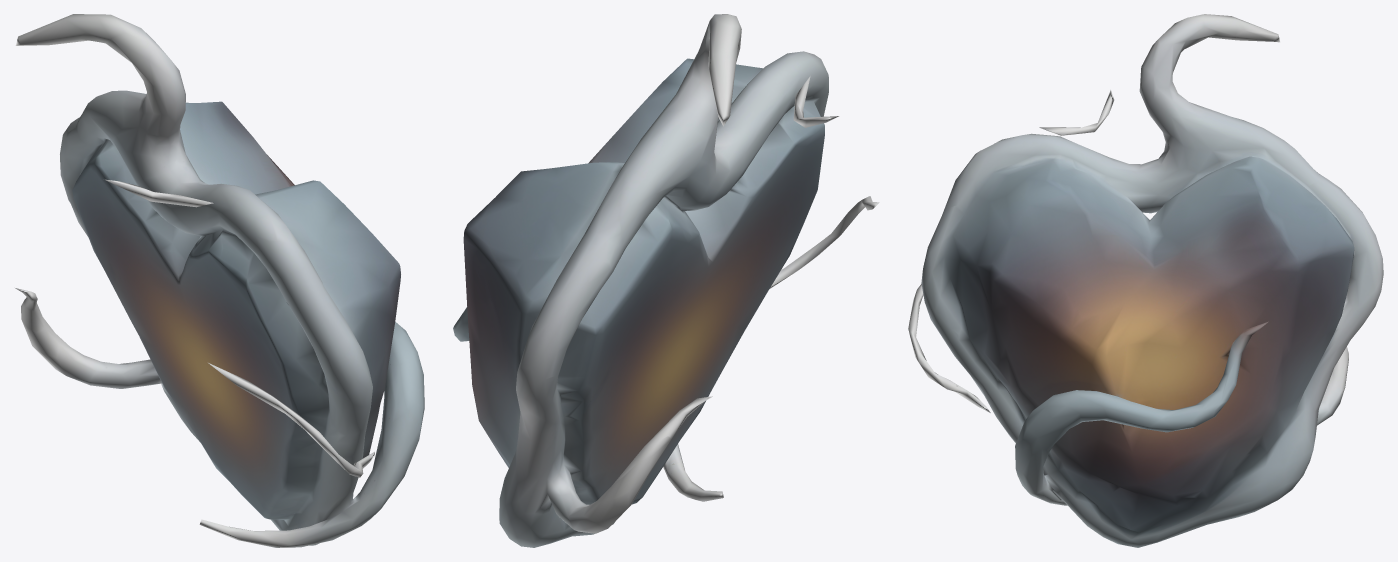
Rendered from soluk_cekirdegi.glb.
The picture shows the model from 3 angles, left to right: view 1: azimuth 30°, elevation 25°; view 2: azimuth 150°, elevation 25°; view 3: azimuth 270°, elevation 25°; orthographic projection. The views are drawn at different scales.
Visible parts, largest first — view 1: tripo_node_8cf8be89-5967-41ba-b028-3254efcf0a0a; view 2: tripo_node_8cf8be89-5967-41ba-b028-3254efcf0a0a; view 3: tripo_node_8cf8be89-5967-41ba-b028-3254efcf0a0a.
Part boxes in pixels (bbox=[...]): tripo_node_8cf8be89-5967-41ba-b028-3254efcf0a0a: bbox=[15, 14, 424, 547]; tripo_node_8cf8be89-5967-41ba-b028-3254efcf0a0a: bbox=[453, 14, 879, 547]; tripo_node_8cf8be89-5967-41ba-b028-3254efcf0a0a: bbox=[908, 14, 1383, 547].
Bounding box in the file's own units: 0.6008 × 1 × 0.9276.
1 material, 1 textured.
